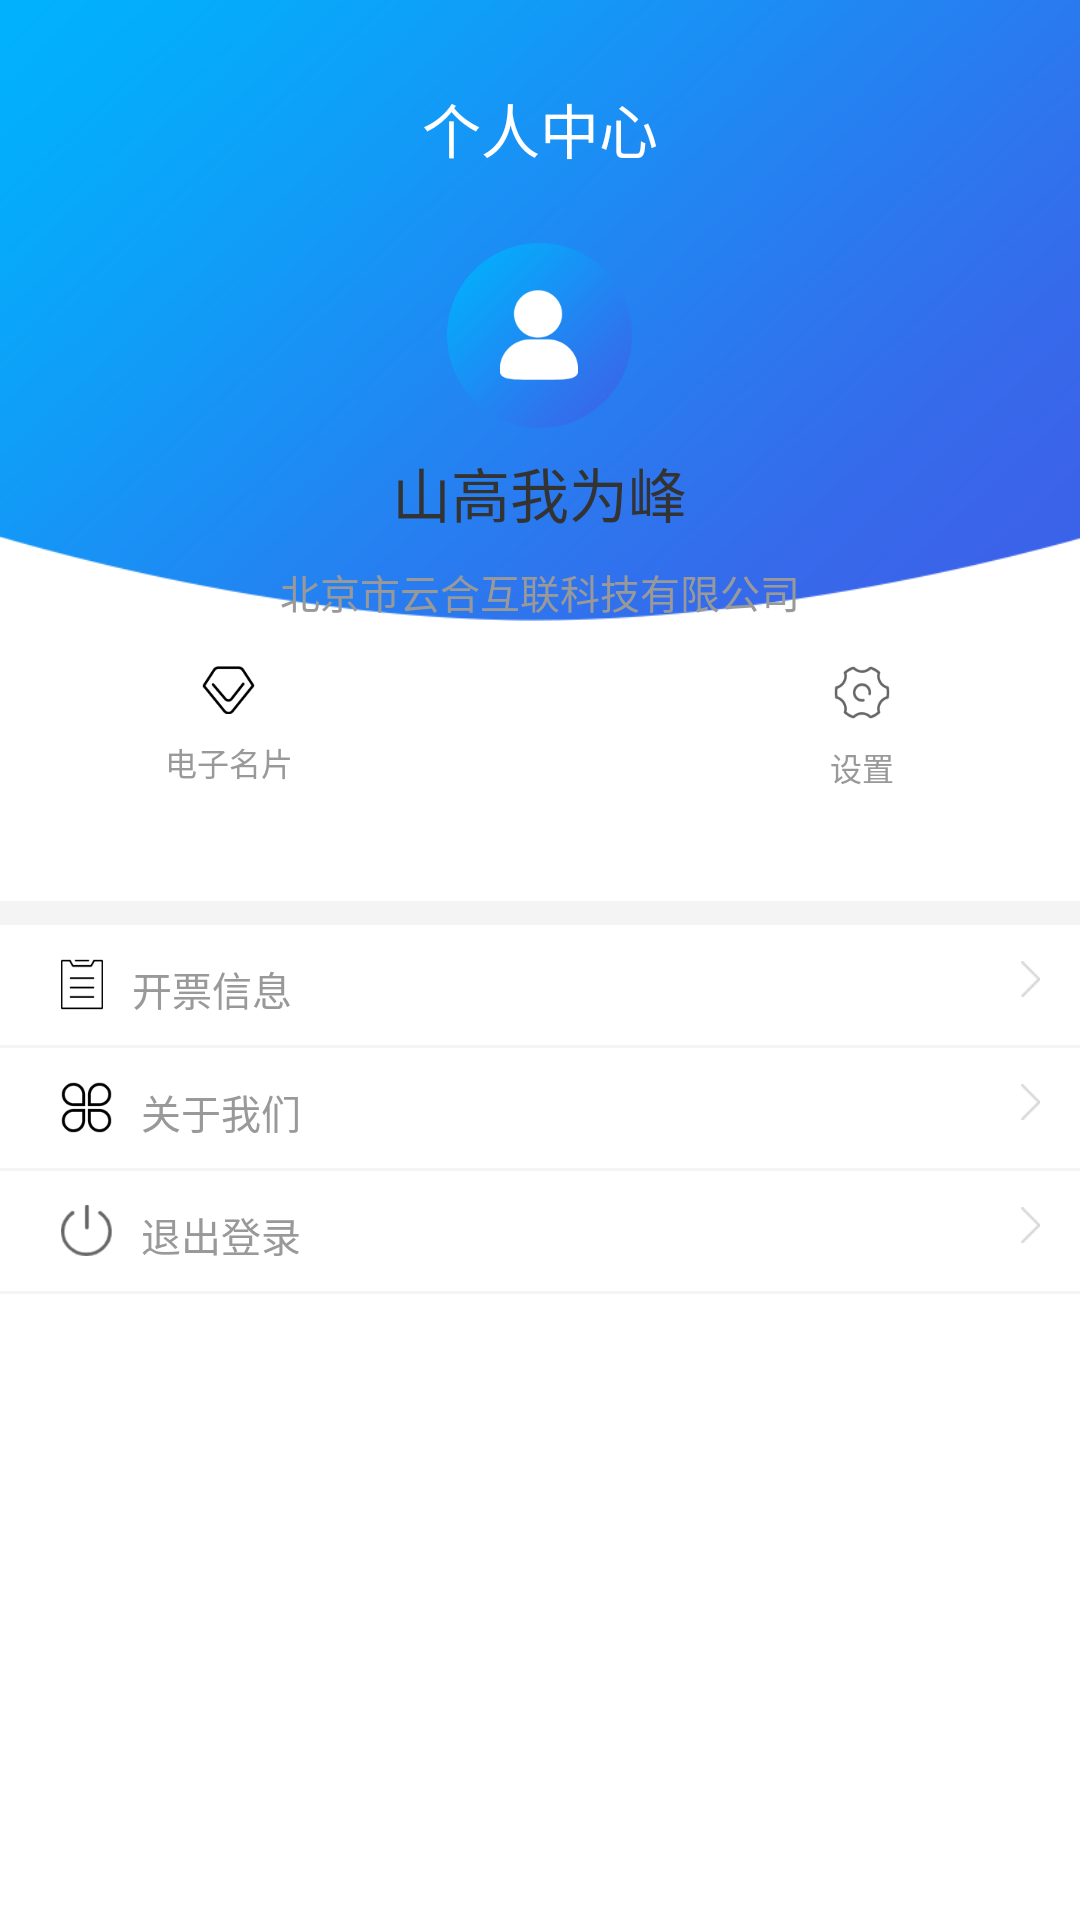

Icon bounding boxes for this 1080*1920 phone screenshot, format (x1,y1,x2,y2):
order: (61,959,103,1010)
serve: (61,1082,112,1133)
vip: (202,666,255,714)
